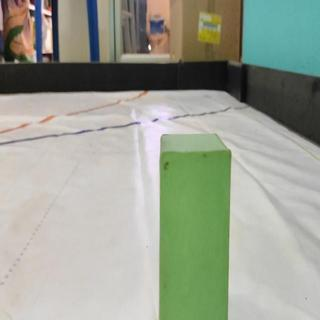greenbox: (159, 132, 234, 320)
